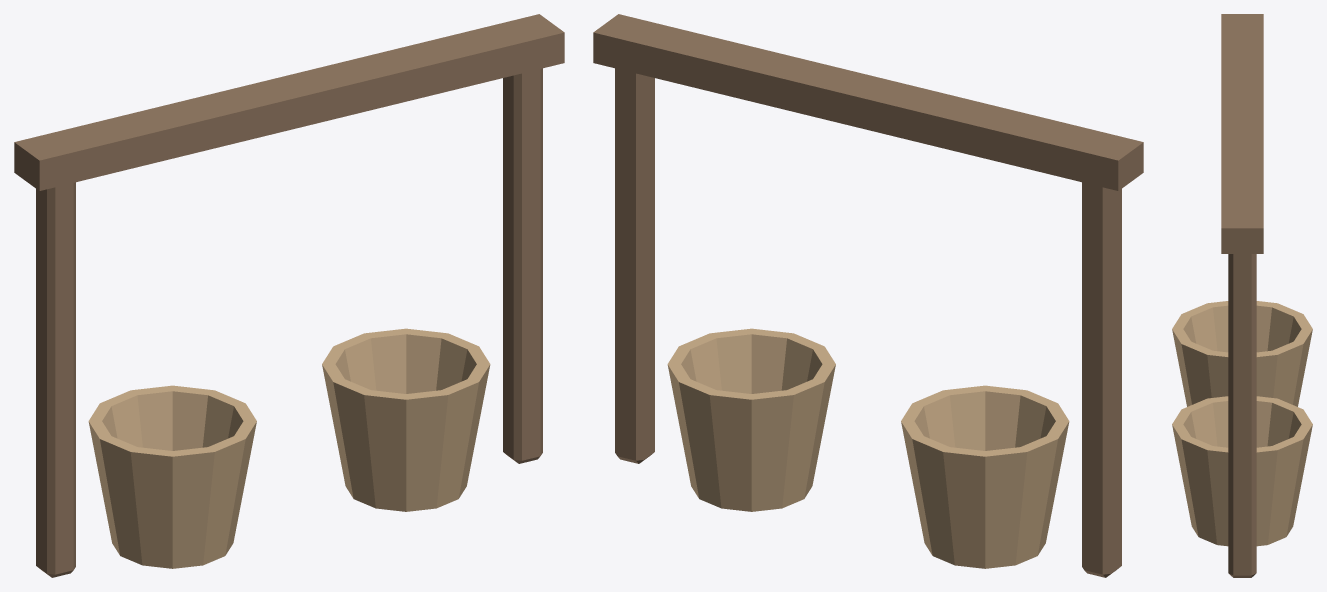
File: feudal-japan-castle-town-fire-bucket-rack-21ed66c0__26525.glb
3 renders of one model, left to right at view 1: azimuth 30°, elevation 25°; view 2: azimuth 150°, elevation 25°; view 3: azimuth 270°, elevation 25°, orthographic. The views are drawn at different scales.
Visible parts, largest first — view 1: fire-bucket-rack; view 2: fire-bucket-rack; view 3: fire-bucket-rack.
Part boxes in pixels (x1=…): fire-bucket-rack: x1=14, y1=14, x2=564, y2=577; fire-bucket-rack: x1=593, y1=14, x2=1143, y2=577; fire-bucket-rack: x1=1172, y1=14, x2=1312, y2=577.
Bounding box in the file's own units: 1.8 × 1.4 × 0.4999.
